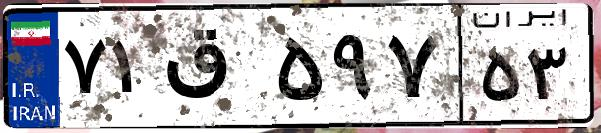1: (110, 28, 158, 98)
3: (525, 38, 570, 115)
5: (270, 28, 330, 110), (475, 38, 525, 113)
7: (385, 28, 445, 110), (57, 26, 110, 100)
9: (330, 28, 385, 110)
ق: (158, 20, 270, 120)
